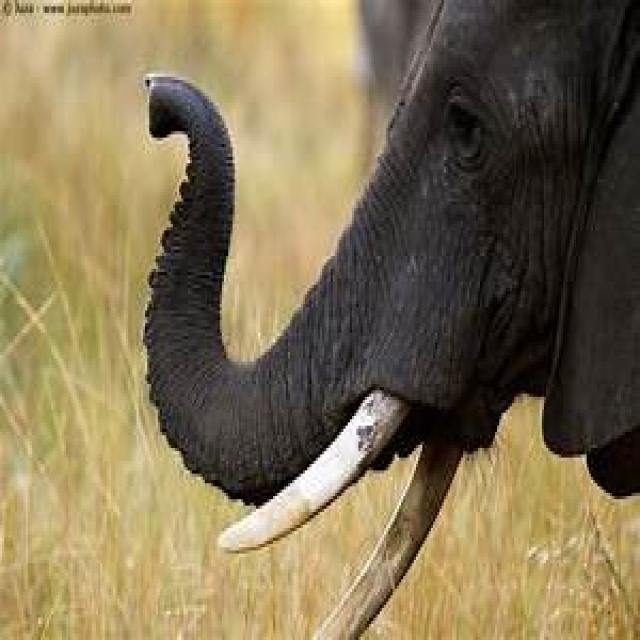elephant: (141, 0, 640, 640)
